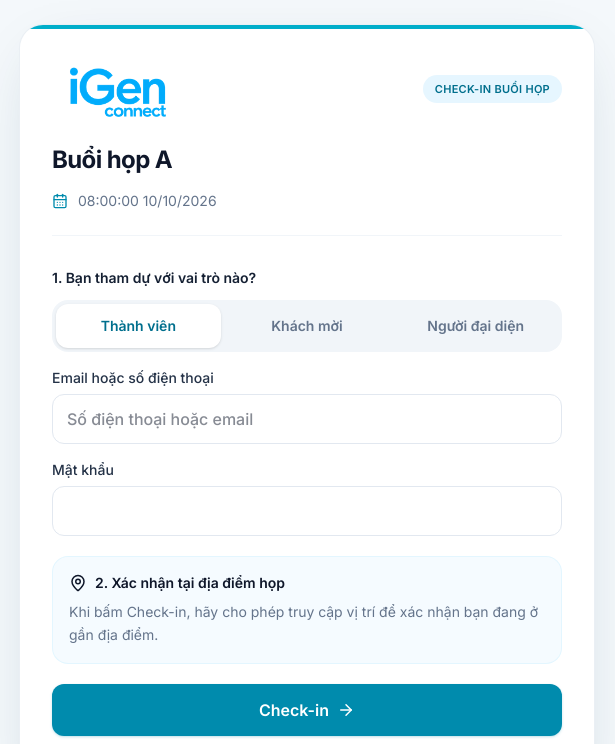
Test: keeps the QR form after a wrong password and succeeds after the attendee corrects it
Type "an@example.com" into the field named "Email tài khoản" at x=307, y=419, box [52,394,562,444]
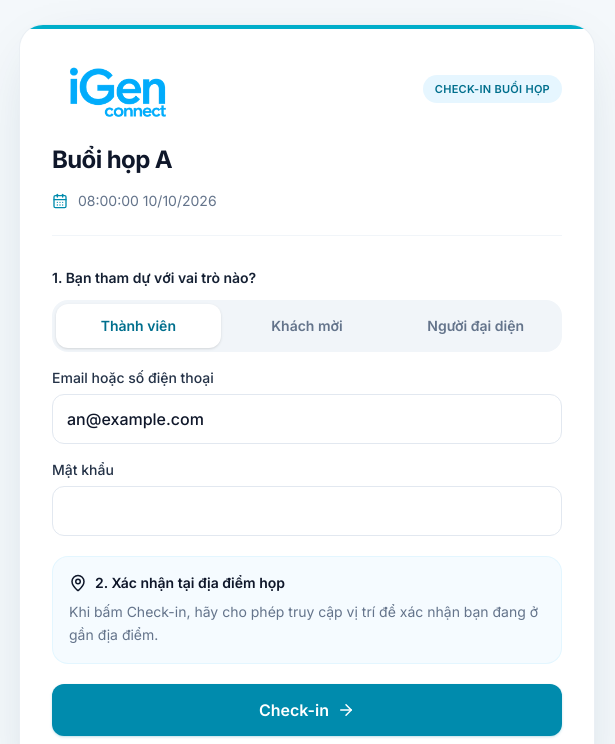
Type "wrong-password" into the password field labelled "Mật khẩu" at x=307, y=511, box [52,486,562,536]
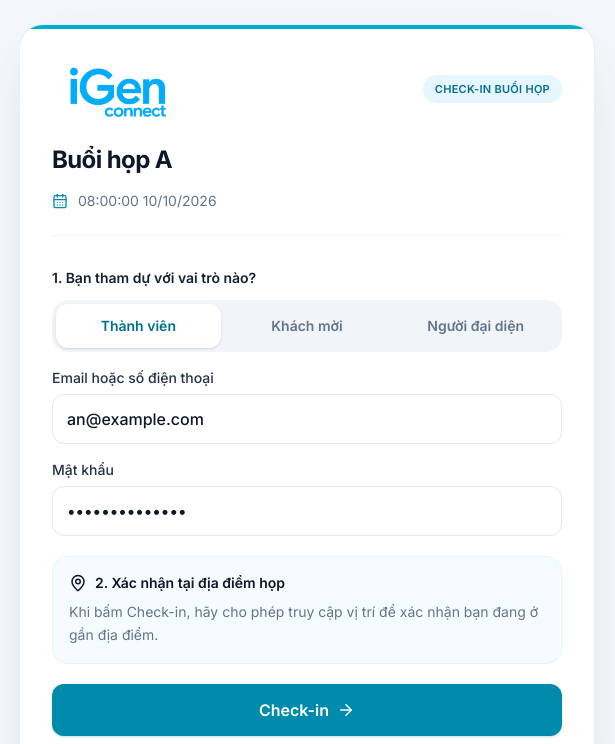
Click the button "Check-in" at x=307, y=710, box [52,684,562,736]
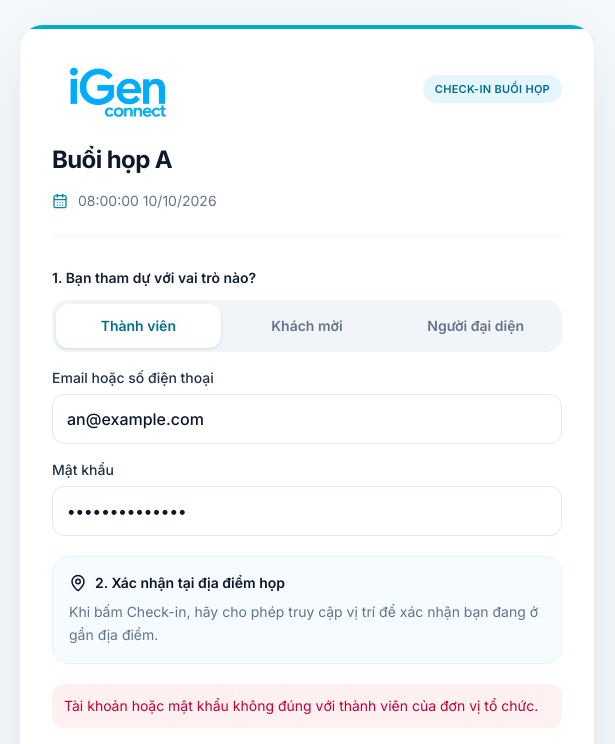
Now the message reads "Tài khoản hoặc mật khẩu không đúng với thành viên của đơn vị tổ chức.", box [64,696,538,714]
Type "correct-password" into the password field labelled "Mật khẩu" at x=307, y=511, box [52,486,562,536]
(page scrolled)
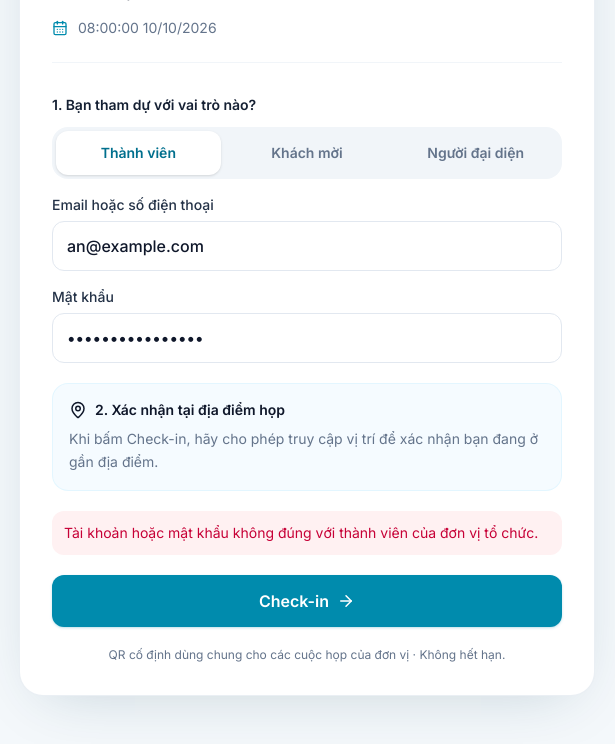
Click the button "Check-in" at x=307, y=600, box [52,574,562,626]
(page scrolled)
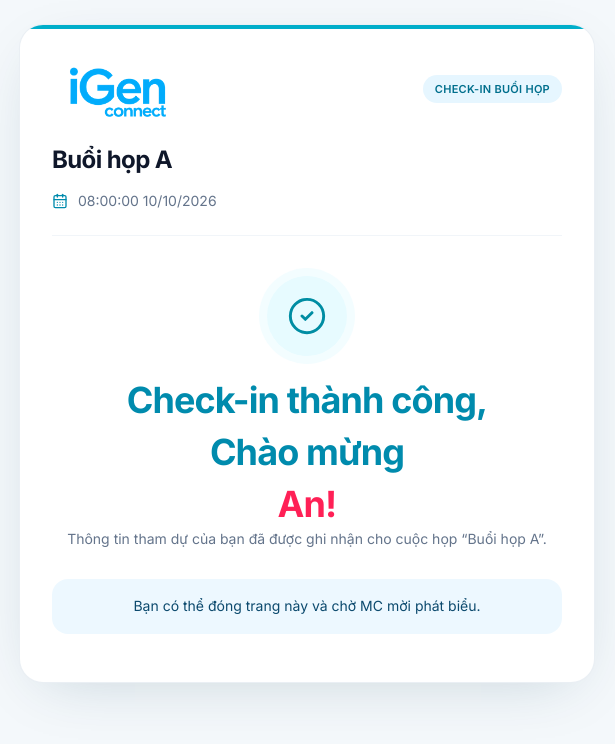
Now the heading "Check-in thành công, Chào mừng An!" is shown, box [127,378,487,526]
